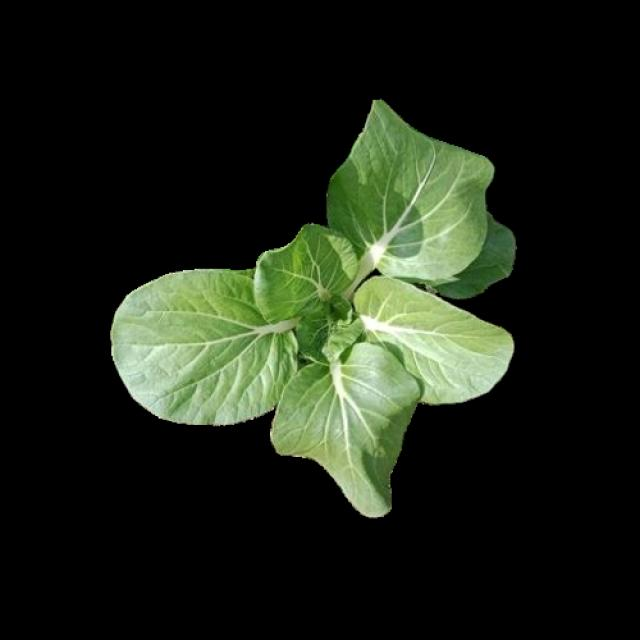healthy: (118, 124, 513, 515)
mature: (111, 97, 516, 517)
